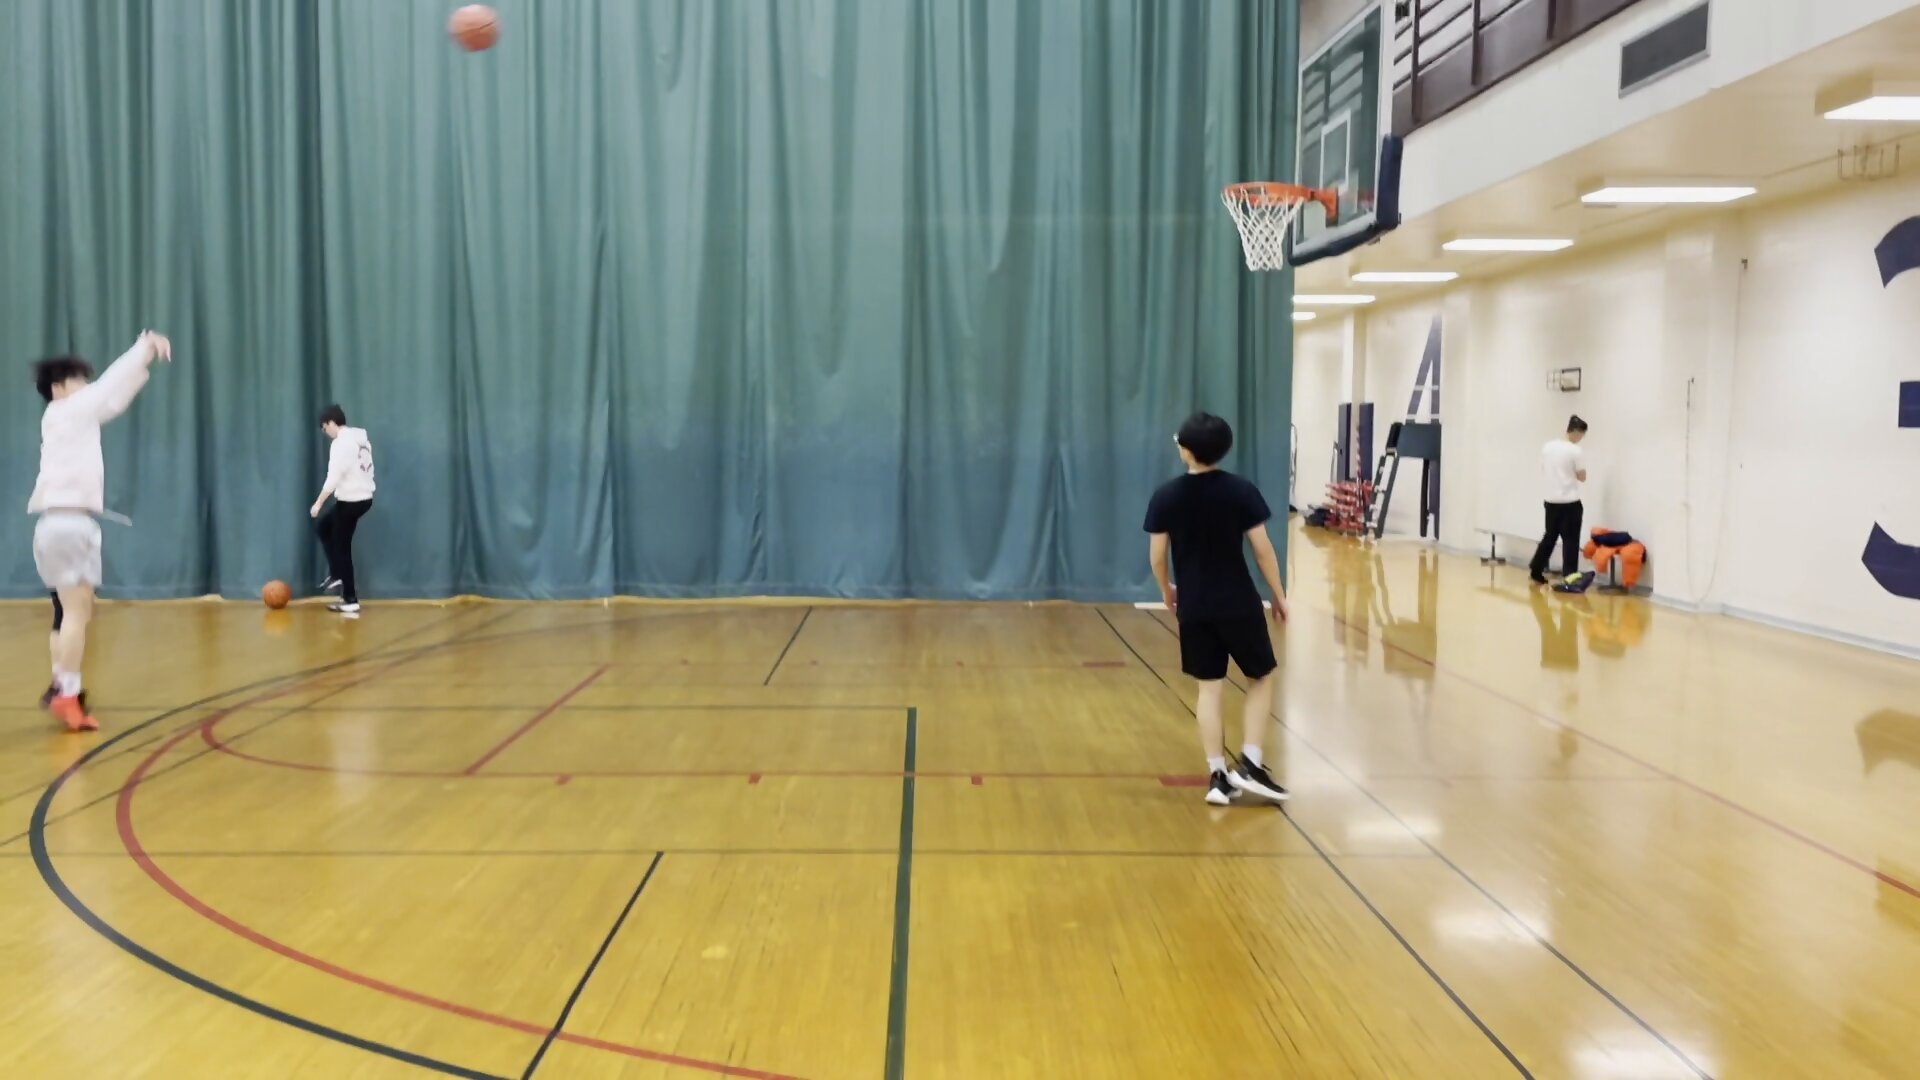ball: (443, 1, 503, 54), (255, 579, 291, 611)
net: (1233, 241, 1296, 277)
player: (1139, 411, 1305, 816), (30, 320, 173, 741), (301, 402, 377, 616), (1526, 410, 1596, 588)
rim: (1214, 178, 1312, 211)
